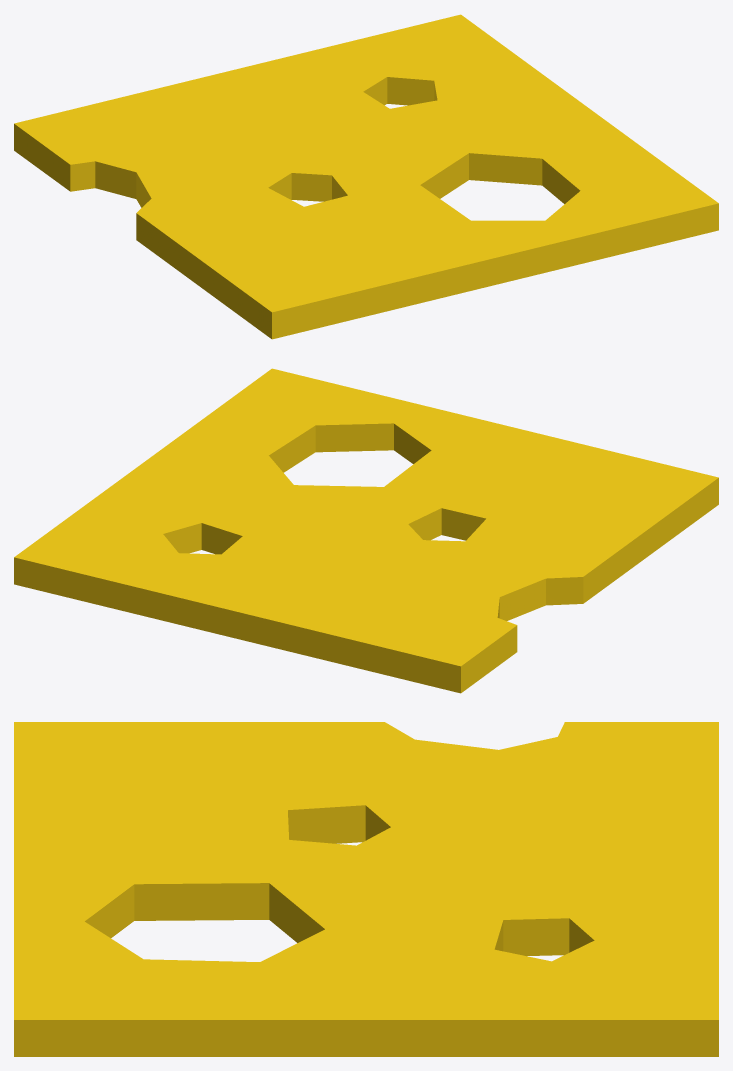
The model's file is Cheese.FBX.
The picture shows the model from 3 angles, top to bottom: view 1: azimuth 30°, elevation 25°; view 2: azimuth 150°, elevation 25°; view 3: azimuth 270°, elevation 25°; orthographic projection. The views are drawn at different scales.
Parts seen in each view (by area): view 1: Box001; view 2: Box001; view 3: Box001.
Part boxes in pixels (<box>): Box001: <box>14,14,718,339</box>; Box001: <box>14,368,718,693</box>; Box001: <box>14,722,718,1056</box>.
Bounding box in the file's own units: 29.02 × 1.68 × 29.02.
